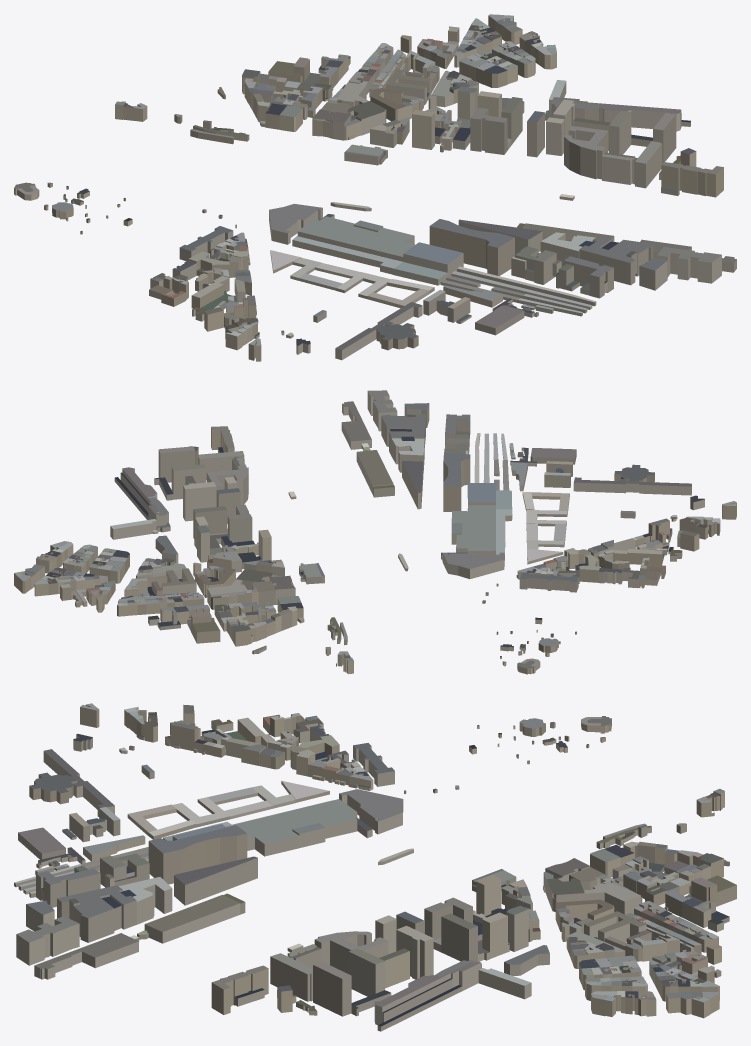
3 renders of one model, top to bottom at view 1: azimuth 30°, elevation 25°; view 2: azimuth 150°, elevation 25°; view 3: azimuth 270°, elevation 25°, orthographic. The views are drawn at different scales.
Visible parts, largest first — view 1: tuile; view 2: tuile; view 3: tuile.
Boxes of the visible parts, <box> form: tuile: <box>14,14,736,361</box>; tuile: <box>14,390,736,674</box>; tuile: <box>14,703,736,1031</box>.
Size of the model in its own units: 1082 by 75.65 by 1057.
